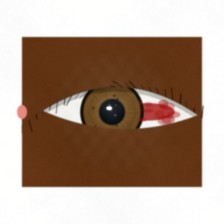hemorrhage_spot: (110, 82, 185, 142)
